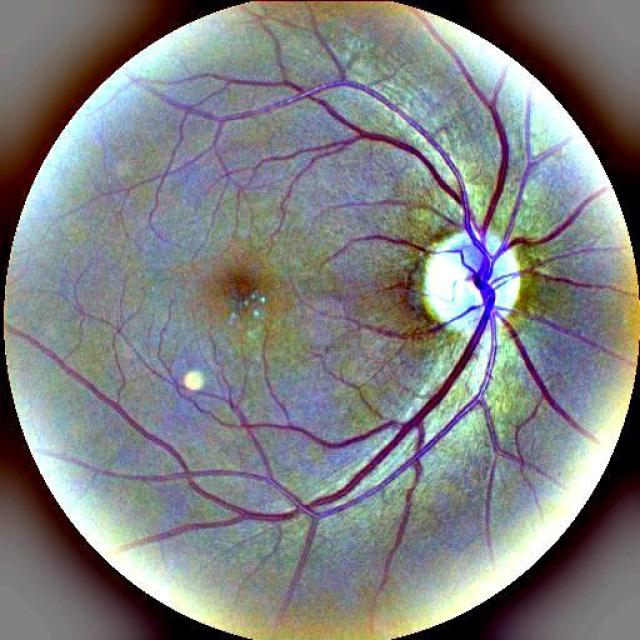Macula: (204, 246, 284, 333)
Nerves: (54, 81, 500, 549)
Optic Disk: (399, 212, 555, 363)
